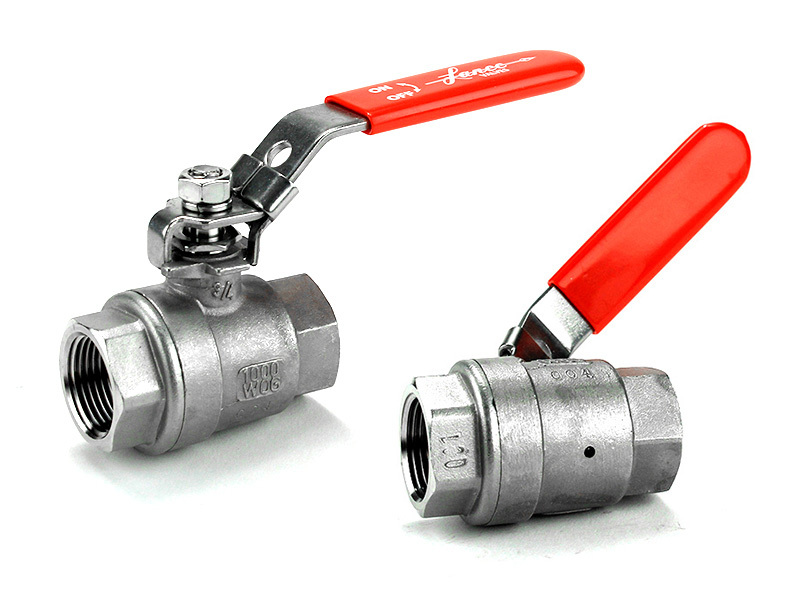valve: (27, 15, 584, 472), (356, 90, 762, 548)
